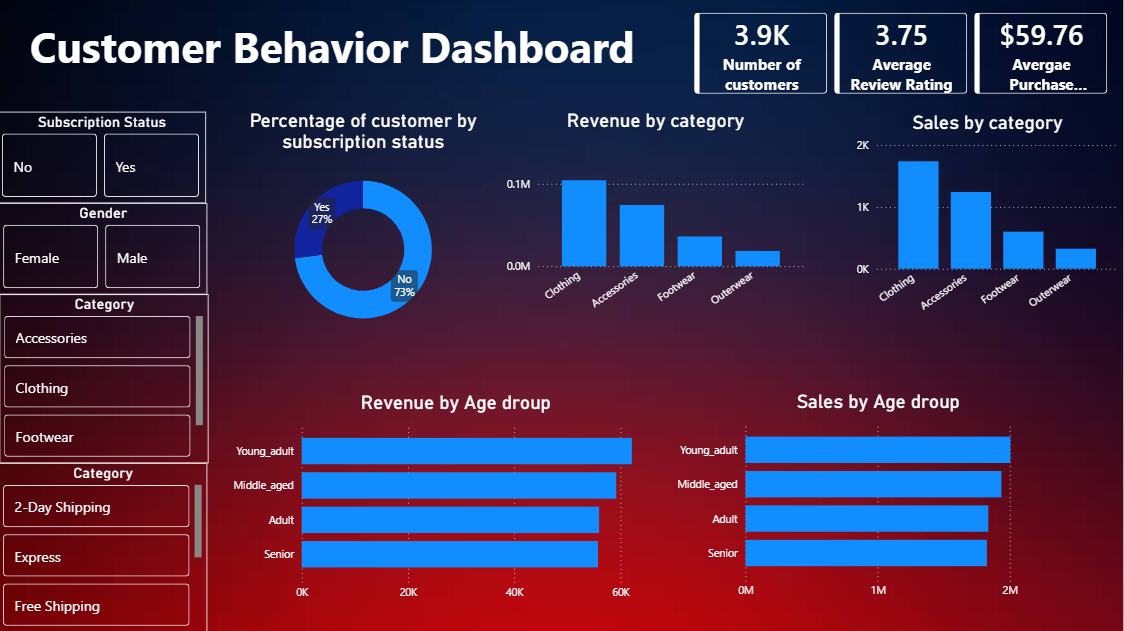

The page's visual inventory and layout, read from the dashboard file:
{"tool":"powerbi","page":{"name":"Page 1","canvas":[1280,720],"ordinal":0},"visuals":[{"type":"cardVisual","fields":{"Data":["public customer.Number of customers","public customer.Average Review Rating","public customer.Avergae Purchase Amount"]},"box":[776,0,504.3,126.4],"z":0},{"type":"textbox","box":[0,0,762.5,126.4],"z":2},{"type":"donutChart","title":"Percentage of customer by subscription status","fields":{"Category":["public customer.subscription_status"],"Y":["CountNonNull(public customer.customer_id)"]},"box":[258.6,126.5,315.5,271.4],"z":3},{"type":"clusteredColumnChart","title":"Revenue by category","fields":{"Y":["Sum(public customer.purchase_amount)"],"Category":["public customer.category"]},"box":[574.1,126.5,349.6,248.7],"z":4},{"type":"clusteredColumnChart","title":"Sales by category","fields":{"Y":["CountNonNull(public customer.customer_id)"],"Category":["public customer.category"]},"box":[971.9,129.3,308.3,248.7],"z":5},{"type":"advancedSlicerVisual","title":"Subscription Status","fields":{"Values":["public customer.subscription_status"]},"box":[0,129.3,237.3,103.7],"z":6},{"type":"advancedSlicerVisual","title":"Gender","fields":{"Values":["public customer.gender"]},"box":[1.4,233,237.3,103.7],"z":7},{"type":"advancedSlicerVisual","title":"Category","fields":{"Values":["public customer.category"]},"box":[2.8,336.8,237.3,191.8],"z":8},{"type":"advancedSlicerVisual","title":"Category","fields":{"Values":["public customer.shipping_type"]},"box":[1.4,528.6,237.3,191.8],"z":9},{"type":"clusteredBarChart","title":"Revenue by Age droup","fields":{"Y":["Sum(public customer.purchase_amount)"],"Category":["public customer.age_group"]},"box":[258.6,447.6,525.8,245.8],"z":10},{"type":"clusteredBarChart","title":"Sales by Age droup","fields":{"Y":["Sum(public customer.customer_id)"],"Category":["public customer.age_group"]},"box":[763.1,446.2,477.4,245.8],"z":11}]}

Visuals, with their boxes in screenshot pixels (x1, y1, x2, y2), scaled from the page's 1280x720 canvas onto the 1124x631 screenshot:
cardVisual - public customer.Number of customers x public customer.Average Review Rating: 681:0:1123:111
textbox: 0:0:670:111
"Percentage of customer by subscription status" donutChart: 227:111:504:349
"Revenue by category" clusteredColumnChart: 504:111:811:329
"Sales by category" clusteredColumnChart: 853:113:1123:331
"Subscription Status" advancedSlicerVisual: 0:113:208:204
"Gender" advancedSlicerVisual: 1:204:210:295
"Category" advancedSlicerVisual: 2:295:211:463
"Category" advancedSlicerVisual: 1:463:210:630
"Revenue by Age droup" clusteredBarChart: 227:392:689:608
"Sales by Age droup" clusteredBarChart: 670:391:1089:606
